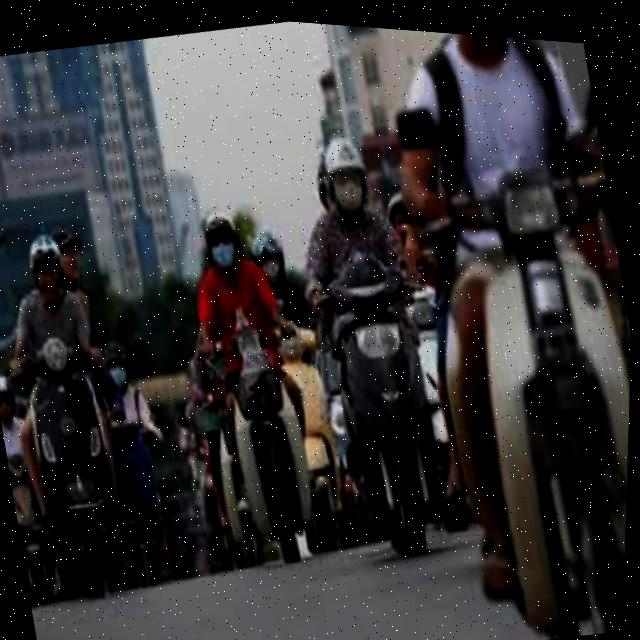motorcycle: (398, 152, 636, 640), (298, 249, 468, 579), (0, 324, 149, 622), (184, 304, 341, 573)
